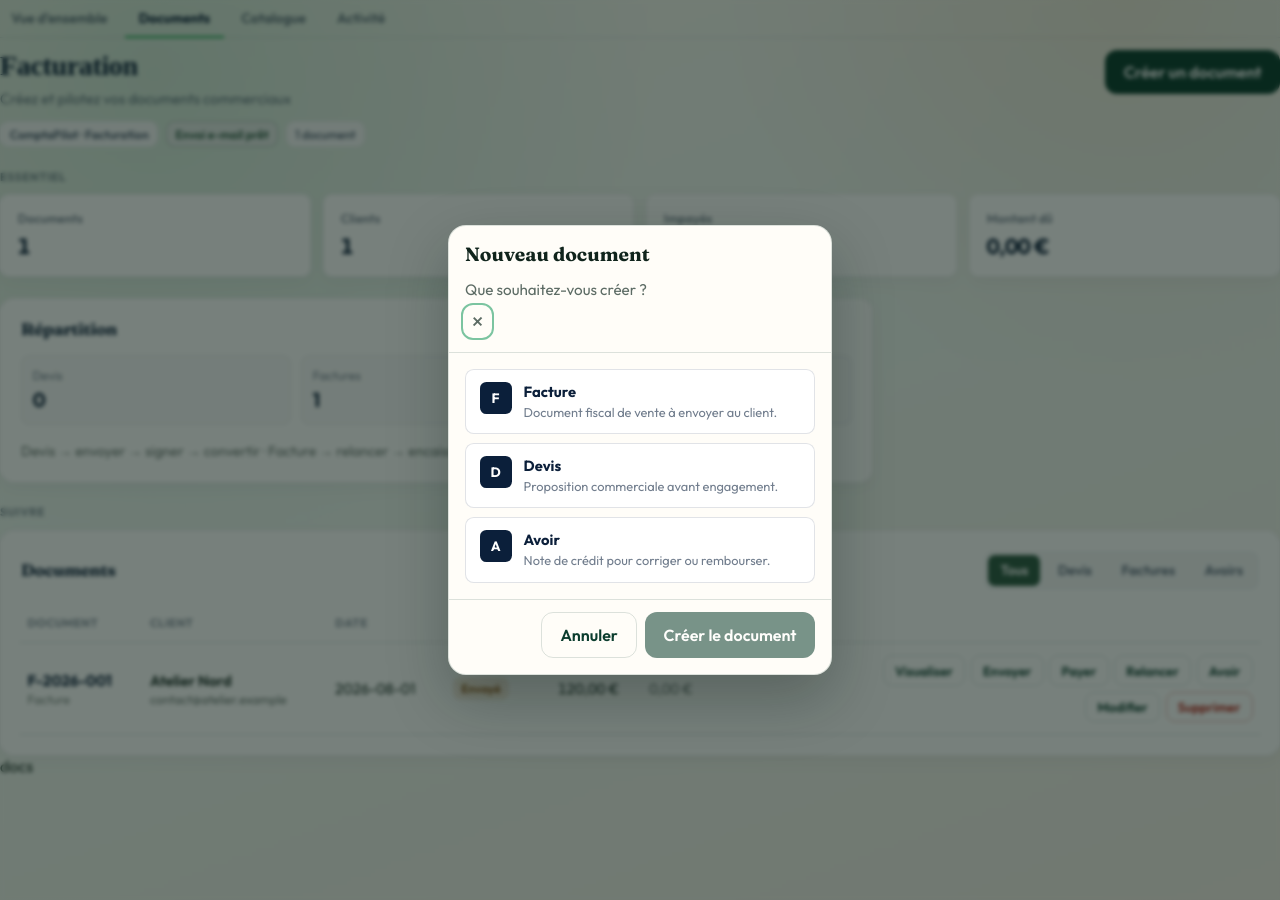
MM11–MM20 Transition type → composer (anti route_change) › MM14 — après transition stage composer
Click the radio button labelled "D Devis Proposition commerciale avant engagement.": (640, 476) [465, 443, 815, 508]
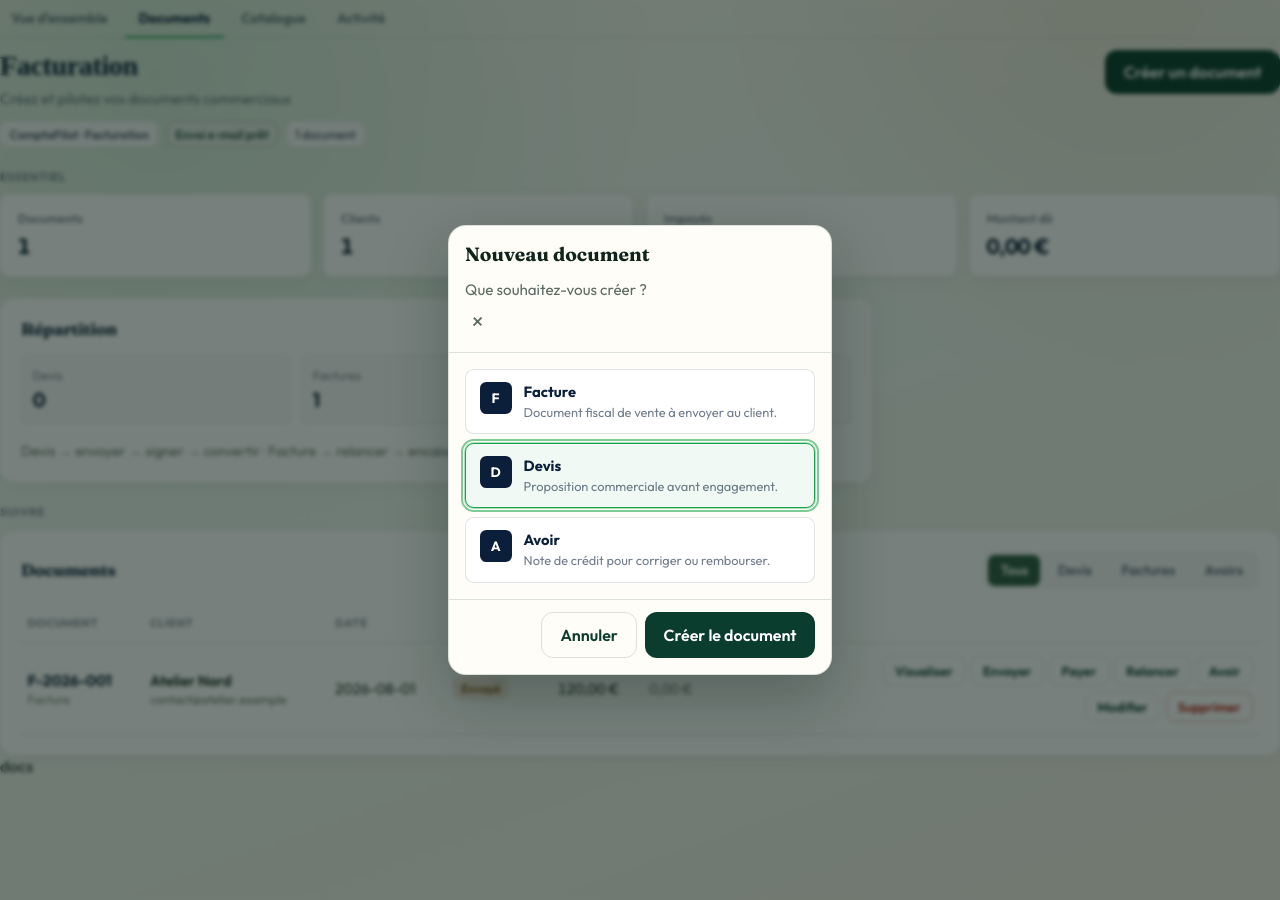
Click the button "Créer le document": (730, 635) [645, 612, 815, 658]
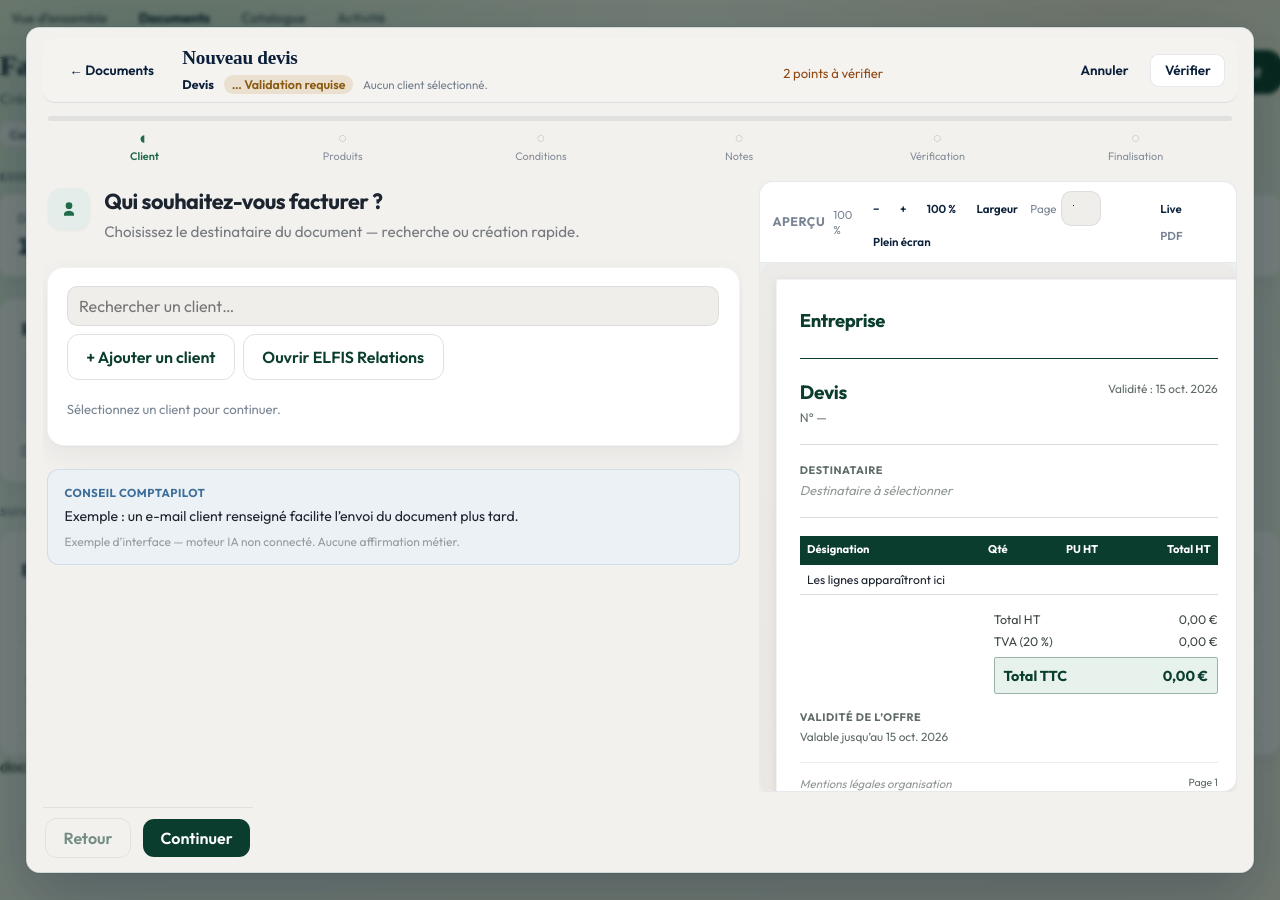
Result: the heading "Nouveau devis" is shown at [182, 47, 297, 68]
